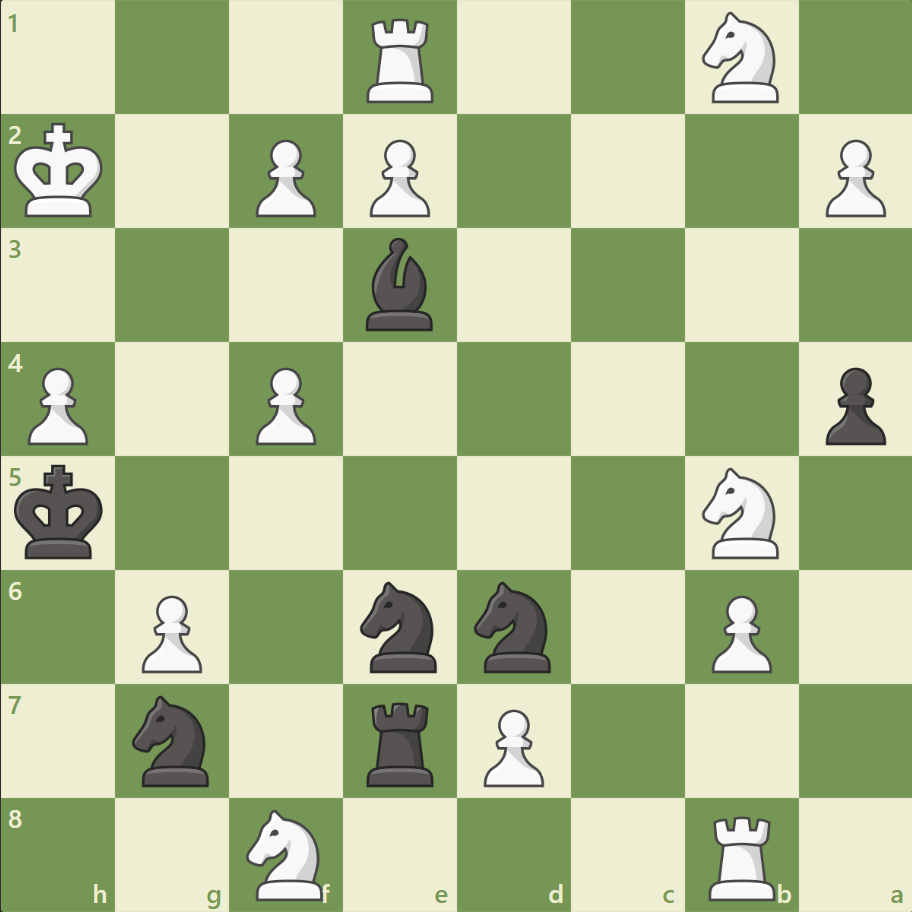K: (11, 117, 111, 225)
N: (692, 461, 789, 564), (692, 7, 789, 110), (238, 802, 335, 904)
P: (474, 700, 549, 791), (701, 586, 776, 677), (133, 586, 208, 677), (247, 359, 322, 450), (20, 359, 95, 450), (247, 132, 322, 223), (815, 132, 889, 223), (361, 132, 435, 223)
R: (700, 806, 783, 904), (360, 12, 442, 109)
b: (358, 233, 442, 336)
k: (11, 458, 111, 566)
n: (124, 688, 222, 791), (351, 575, 449, 677), (465, 575, 562, 677)
p: (815, 359, 889, 450)
r: (360, 693, 442, 790)
